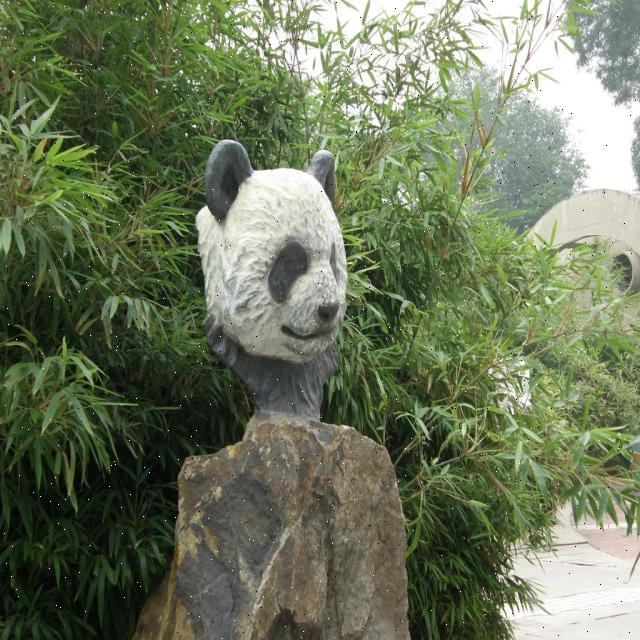panda: (197, 141, 347, 364)
